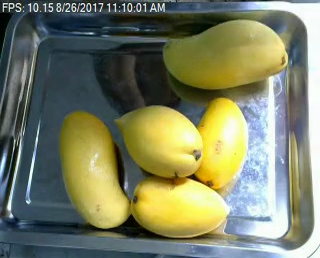Mango: (162, 14, 294, 91), (57, 106, 131, 229), (116, 103, 203, 180), (130, 175, 230, 238), (193, 92, 250, 188)
